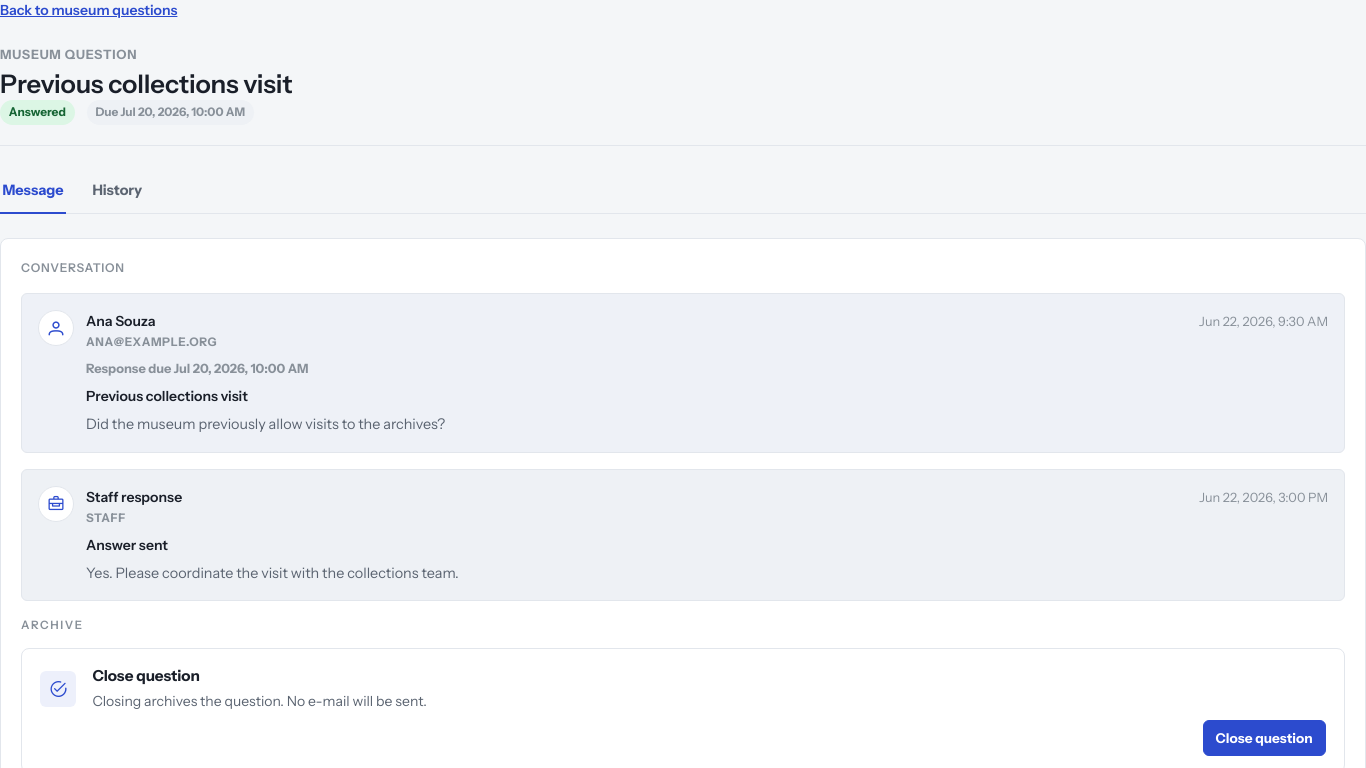
Test: MuseumQuestionDetailPageComponent › keeps later related messages visible when viewing an older history item
Click the tab with id "history-tab" at (117, 192), box [90, 170, 144, 214]
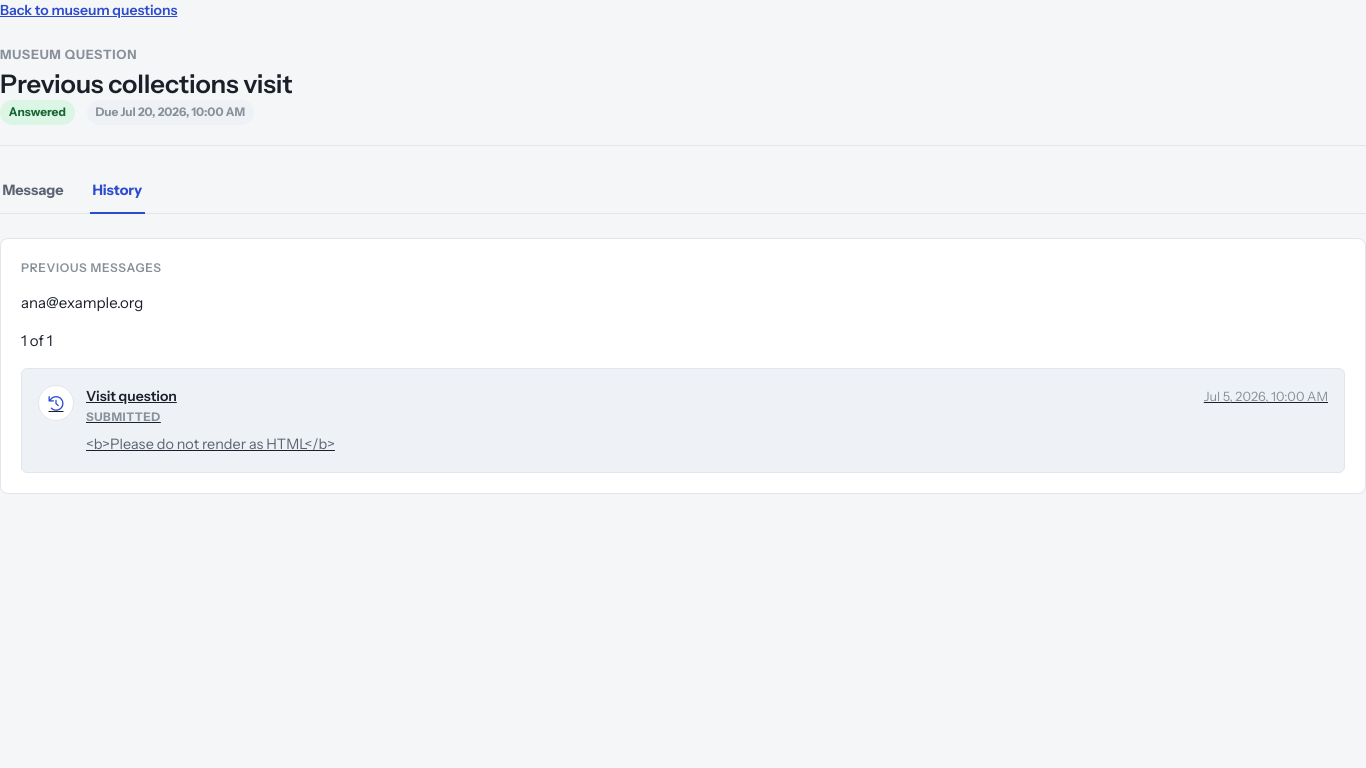
Now the text "Visit question" is shown, box [86, 387, 177, 405]
Now the link to "/p/museum-questions/q1" is shown, box [21, 368, 1345, 473]
